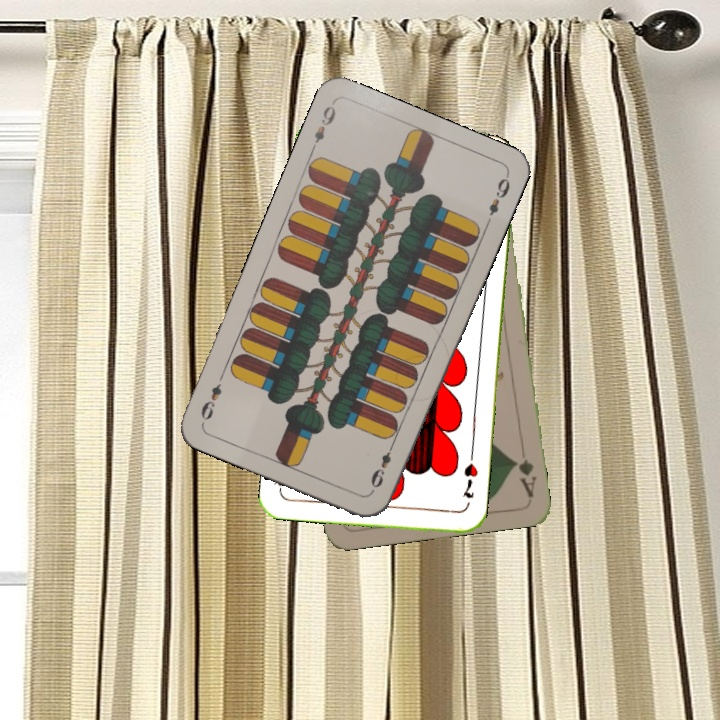E9: (306, 99, 339, 155), (366, 438, 397, 495)
GA: (510, 455, 539, 500)
H7: (459, 459, 481, 501)
